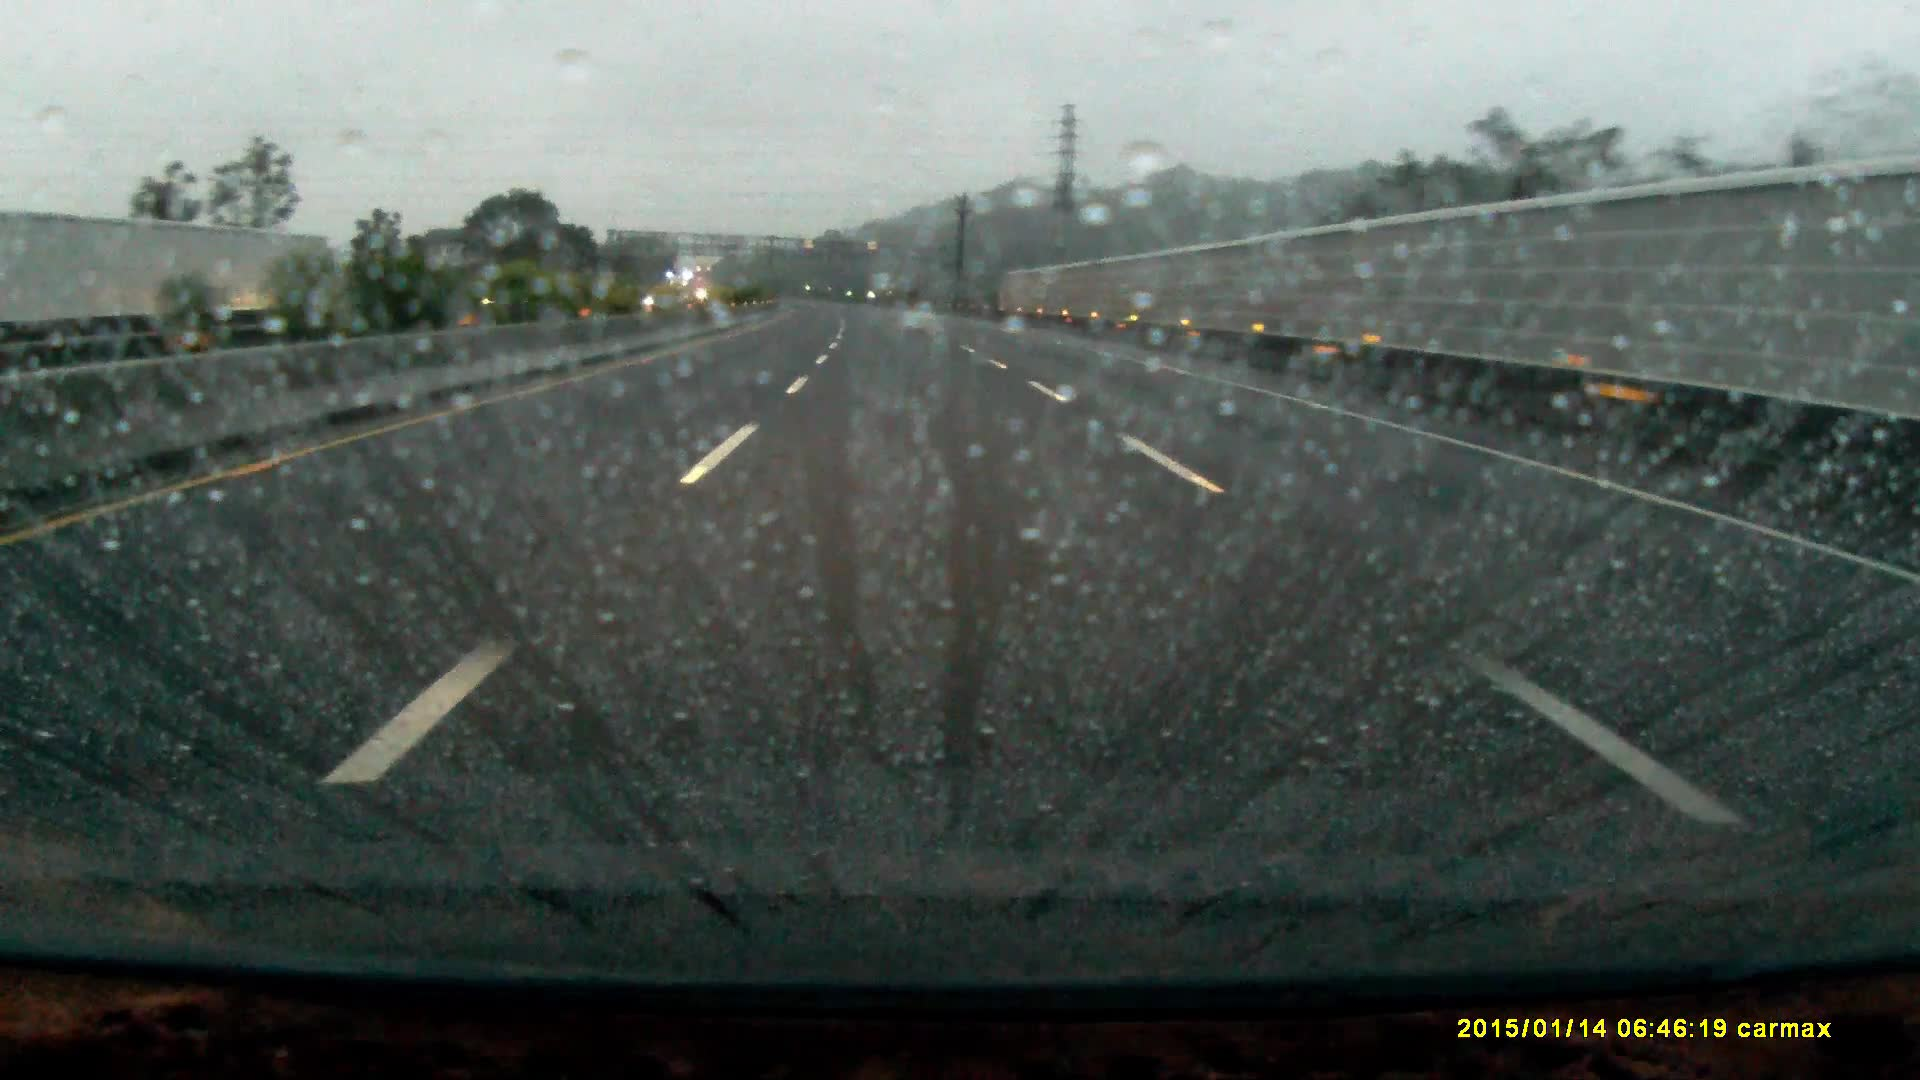vehicle: (663, 269, 699, 302)
